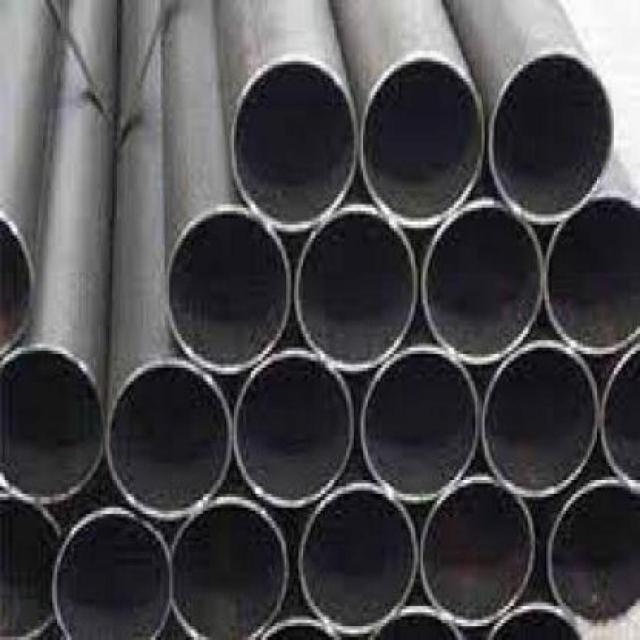pipe: (161, 200, 298, 378), (228, 54, 361, 236), (486, 46, 618, 227), (358, 51, 489, 229), (102, 355, 238, 522), (226, 345, 357, 510), (290, 206, 421, 370), (417, 199, 545, 366), (475, 338, 602, 500), (359, 345, 484, 503), (295, 482, 422, 636), (416, 474, 541, 627), (165, 495, 292, 640), (0, 342, 111, 507), (48, 506, 177, 640), (541, 189, 640, 356), (543, 476, 640, 630), (0, 495, 60, 640), (597, 342, 640, 498), (0, 202, 37, 362), (482, 601, 589, 640), (367, 602, 470, 639)
